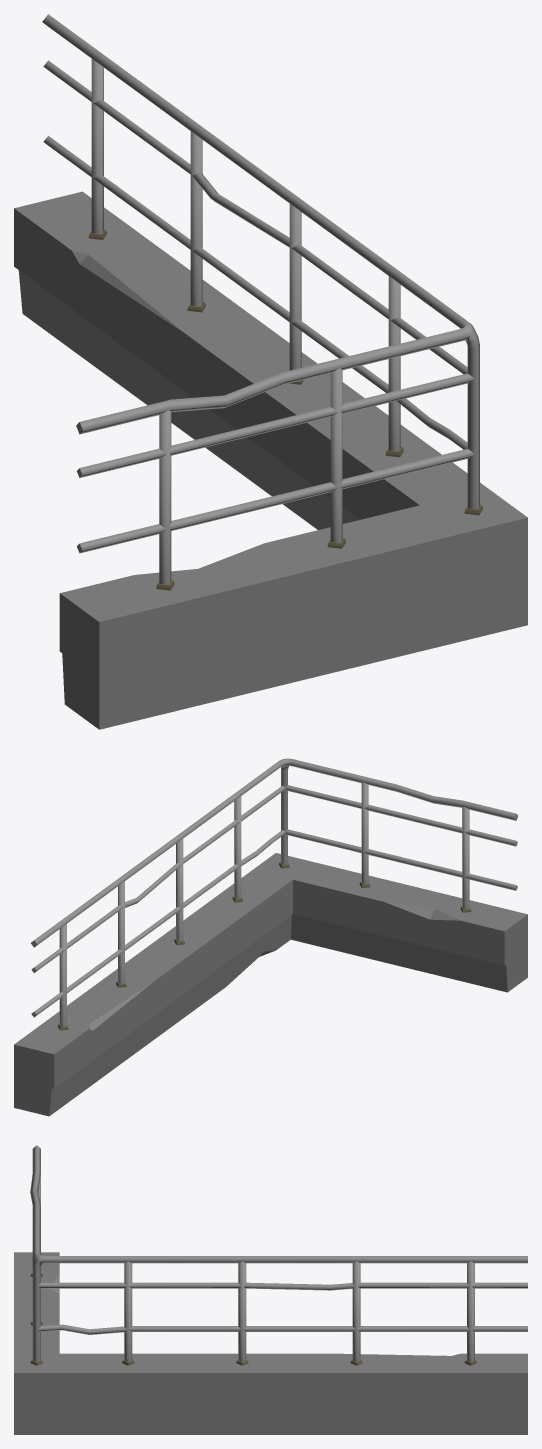
File: SW_ENV_StationStair_Opening_B01_FF.fbx
The picture shows the model from 3 angles, top to bottom: view 1: azimuth 30°, elevation 25°; view 2: azimuth 150°, elevation 25°; view 3: azimuth 270°, elevation 25°; orthographic projection. The views are drawn at different scales.
Visible parts, largest first — view 1: SW_ENV_StationStair_Opening_B01_FF; view 2: SW_ENV_StationStair_Opening_B01_FF; view 3: SW_ENV_StationStair_Opening_B01_FF.
Part boxes in pixels (<box>): SW_ENV_StationStair_Opening_B01_FF: <box>14,14,527,729</box>; SW_ENV_StationStair_Opening_B01_FF: <box>14,758,527,1116</box>; SW_ENV_StationStair_Opening_B01_FF: <box>14,1145,527,1434</box>.
Bounding box in the file's own units: 2.5 × 1.64 × 4.5.
